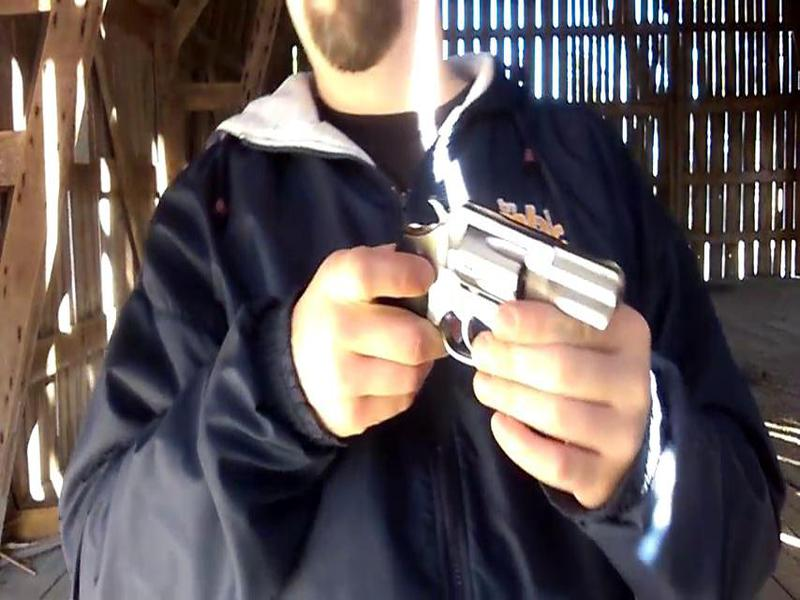Revolver: (359, 182, 638, 404)
